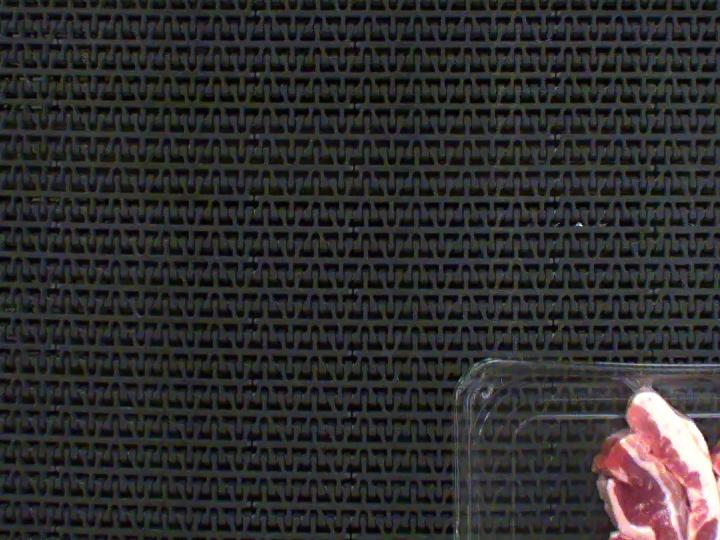packaging-error: (607, 362, 696, 414)
